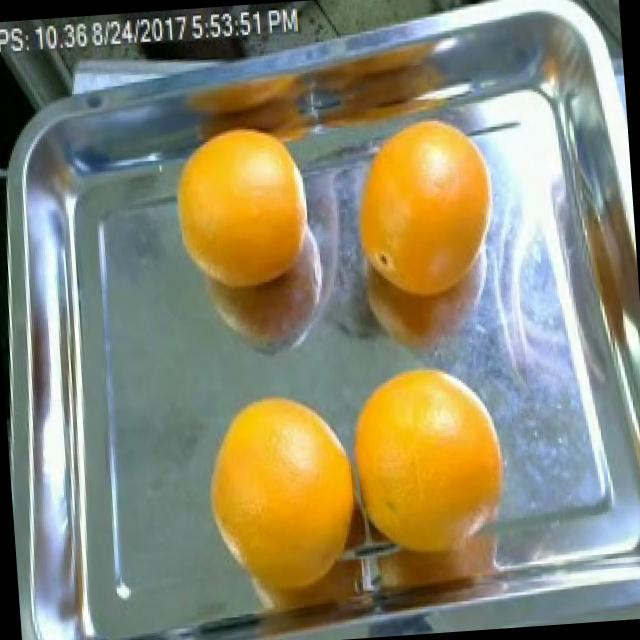Fruit: (334, 344, 528, 556), (333, 101, 518, 316), (154, 105, 322, 323), (194, 380, 364, 569)
